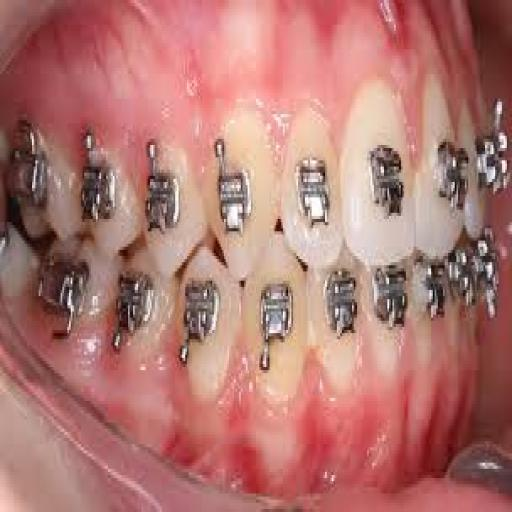correct_brace: (141, 130, 206, 280), (366, 128, 407, 228), (210, 152, 251, 250), (433, 120, 467, 218), (294, 147, 329, 239), (260, 274, 298, 352)
incorrect_brace: (281, 111, 339, 275), (139, 167, 181, 247)
